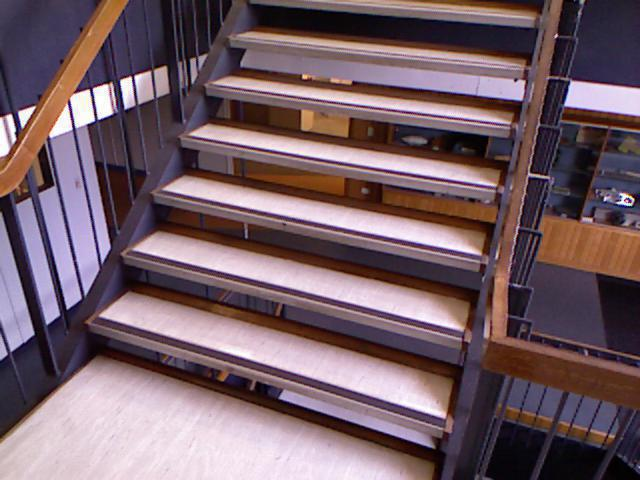Escaleras: (70, 14, 561, 400)
